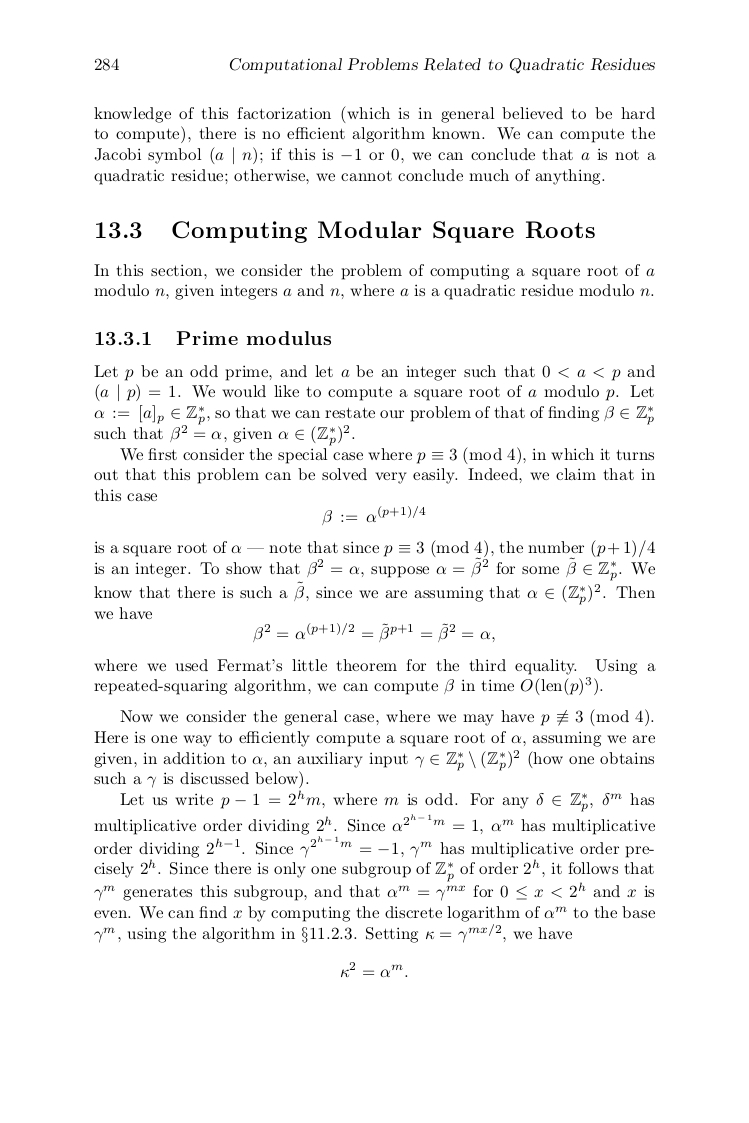formula: (253, 622, 494, 643), (322, 505, 425, 524), (341, 961, 407, 978)
